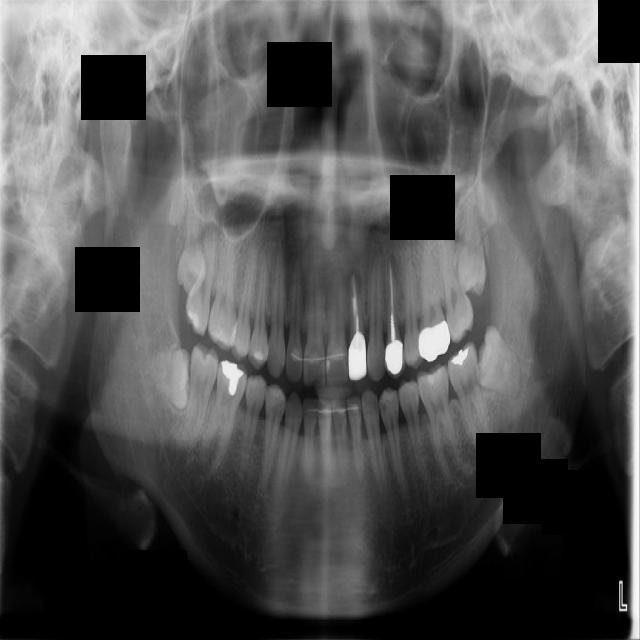3M ESPE Implant: (175, 185, 214, 293)
52: (435, 339, 490, 394), (409, 314, 458, 366), (210, 358, 253, 403), (185, 284, 211, 336), (324, 339, 350, 388), (246, 329, 271, 370), (347, 333, 367, 381), (385, 335, 406, 379)
73: (345, 271, 364, 337), (386, 259, 401, 336), (608, 581, 619, 599)
BioHorizons Implant: (433, 223, 477, 343)
BioLife Implant: (458, 182, 486, 295)
Biomet 3i Implant: (469, 325, 534, 400)
Blue Sky Bio Implant: (443, 340, 491, 447)
Caries: (182, 210, 223, 336)
Implant: (180, 342, 221, 449)
Keystone Dental Implant: (150, 349, 195, 411)
